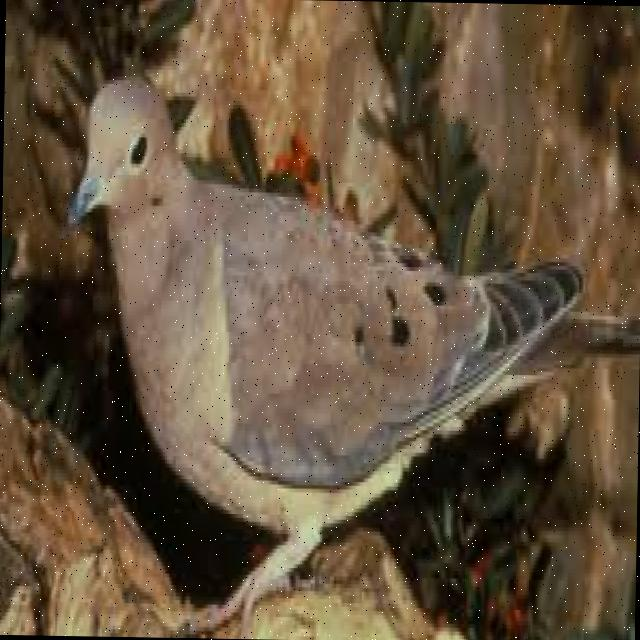dove: (61, 61, 640, 640)
